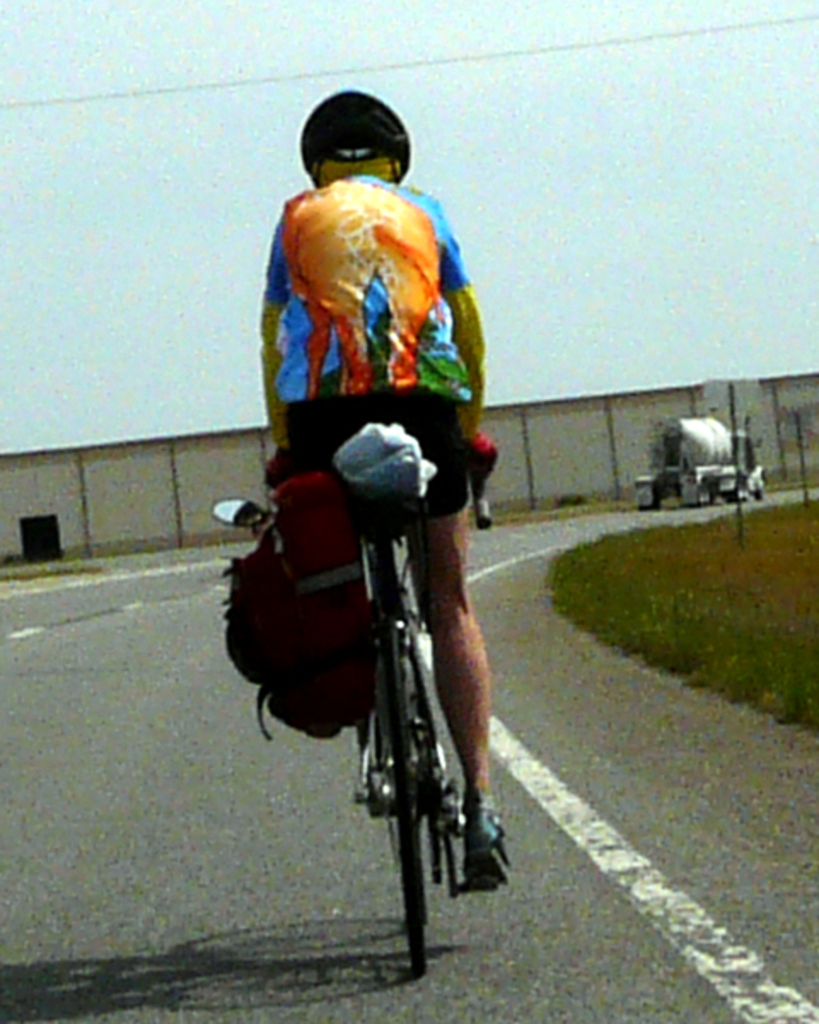Bike: (199, 425, 539, 1009)
